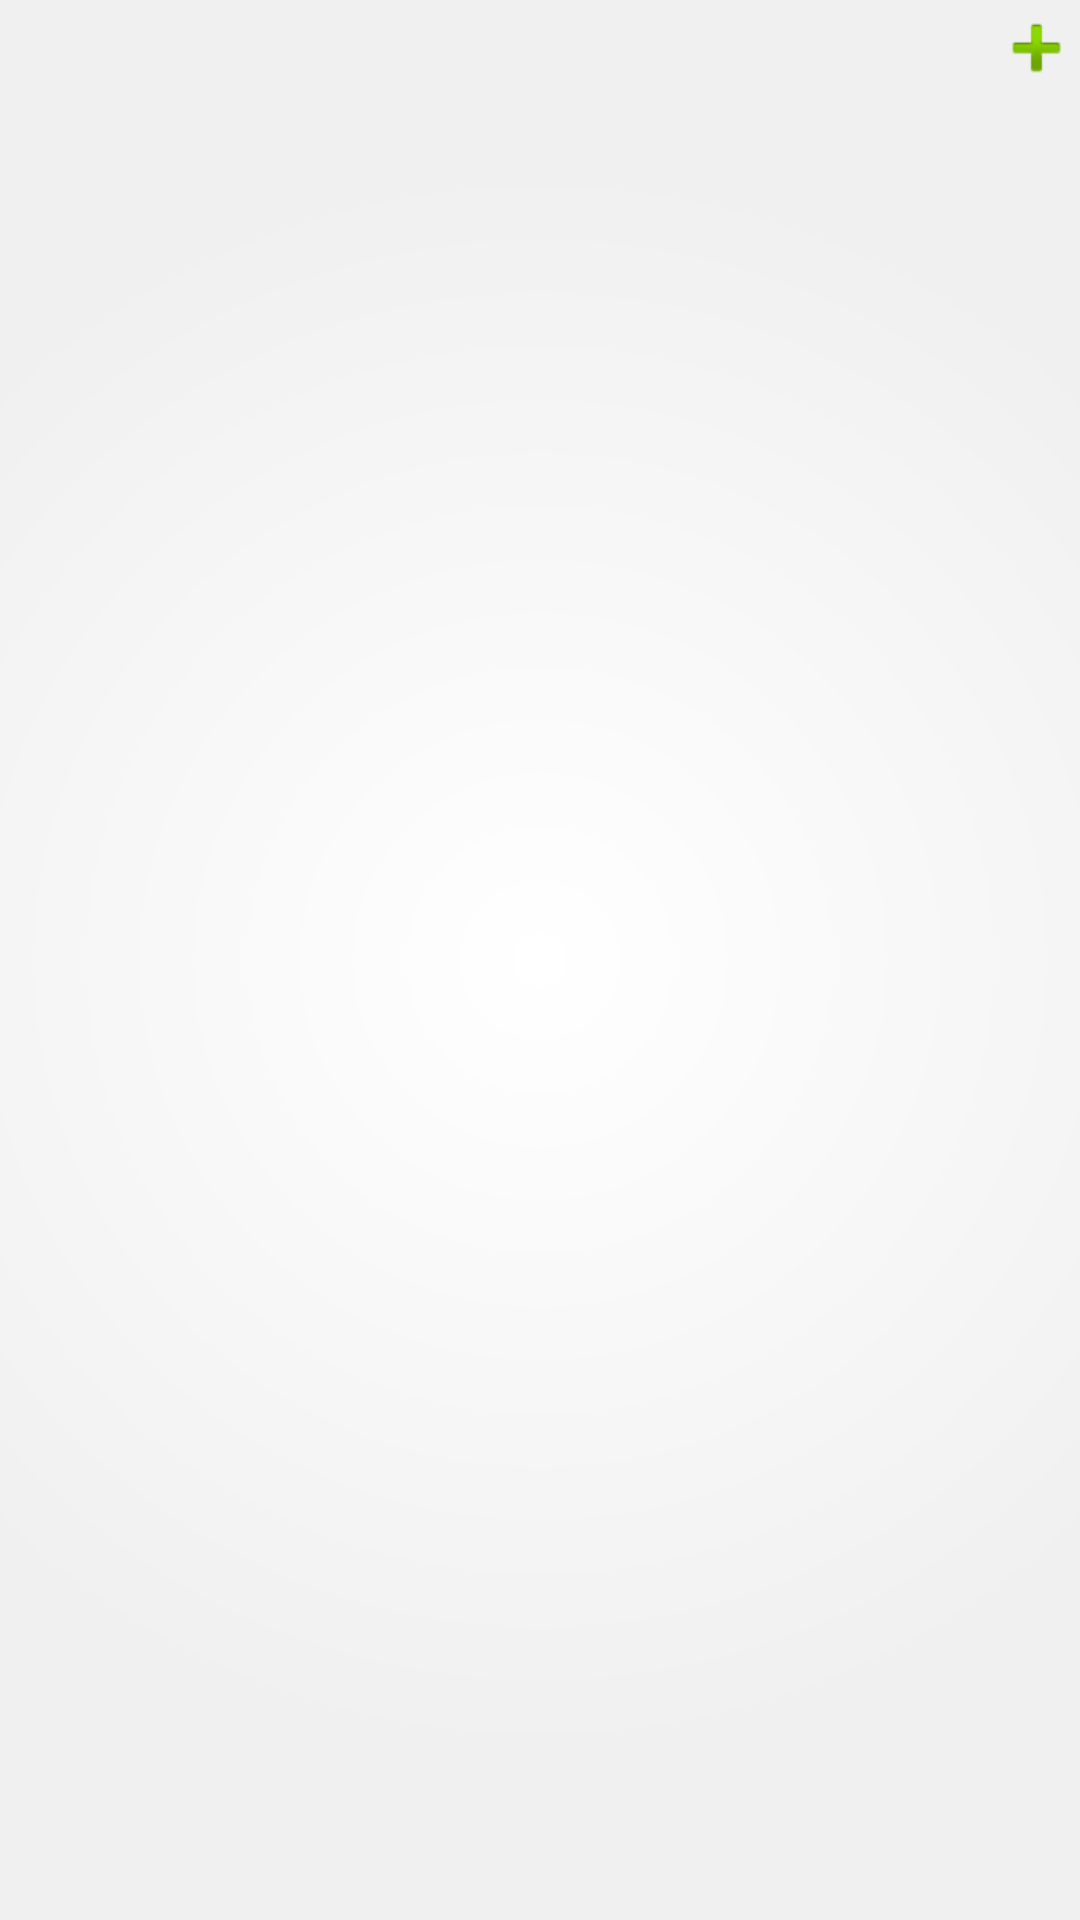

Where to tap for icons on this 1080px×1920px app screen, as (x,y):
add: (1036,48)
